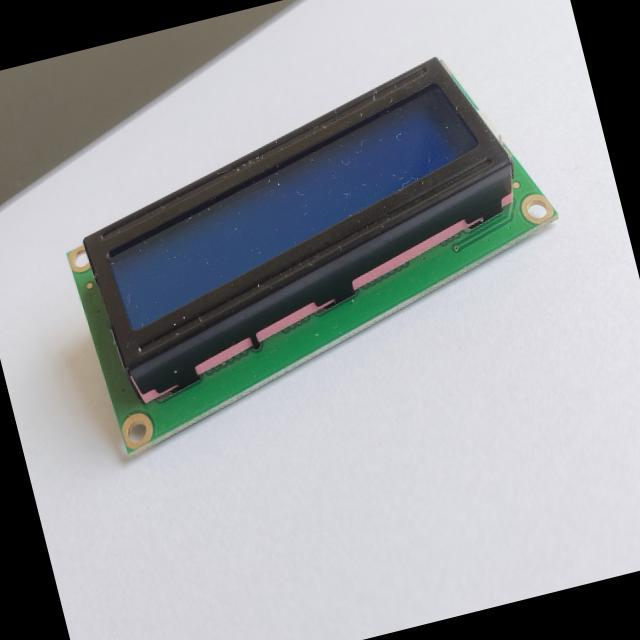lcd: (39, 34, 590, 458)
